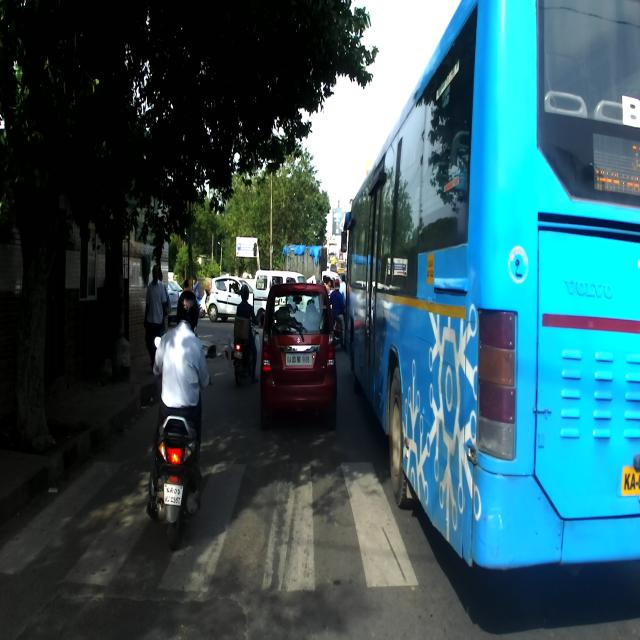bus ahead at: (342, 0, 640, 576)
car ahead at: (262, 278, 333, 424)
motorcycle ahead at: (145, 402, 219, 553)
